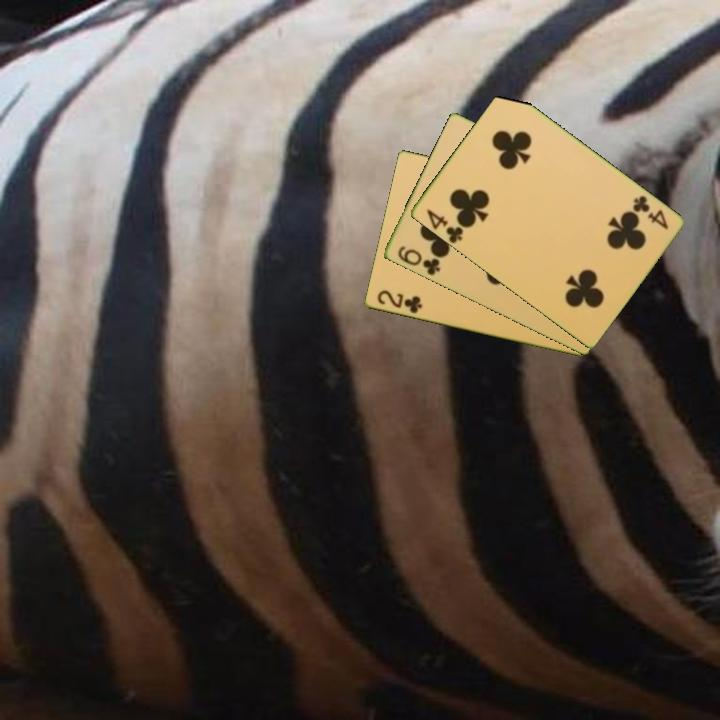2c: (373, 287, 425, 317)
4c: (422, 205, 466, 246), (629, 192, 671, 232)
6c: (394, 243, 443, 279)
